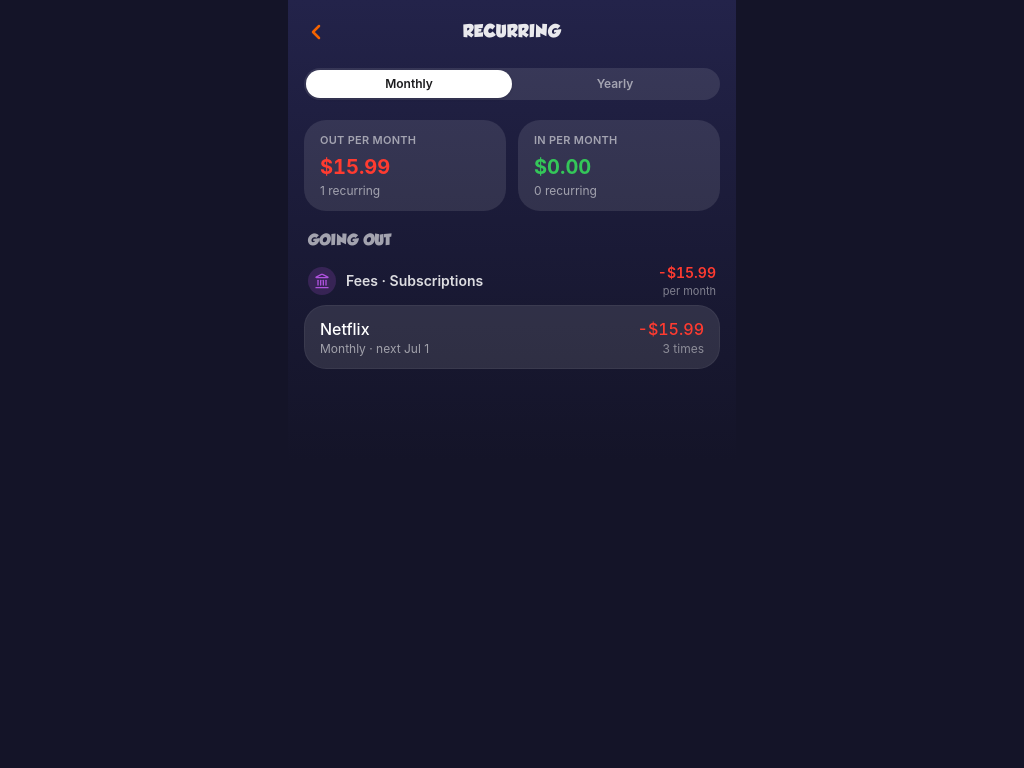
it: Recurring › opens a series to show its occurrences, and closes it again
expect the text "Apr 1" is not shown: met
Step 1. Click the button with aria-label "Netflix, monthly, 3 times" → click(345, 329), box [304, 305, 720, 369]
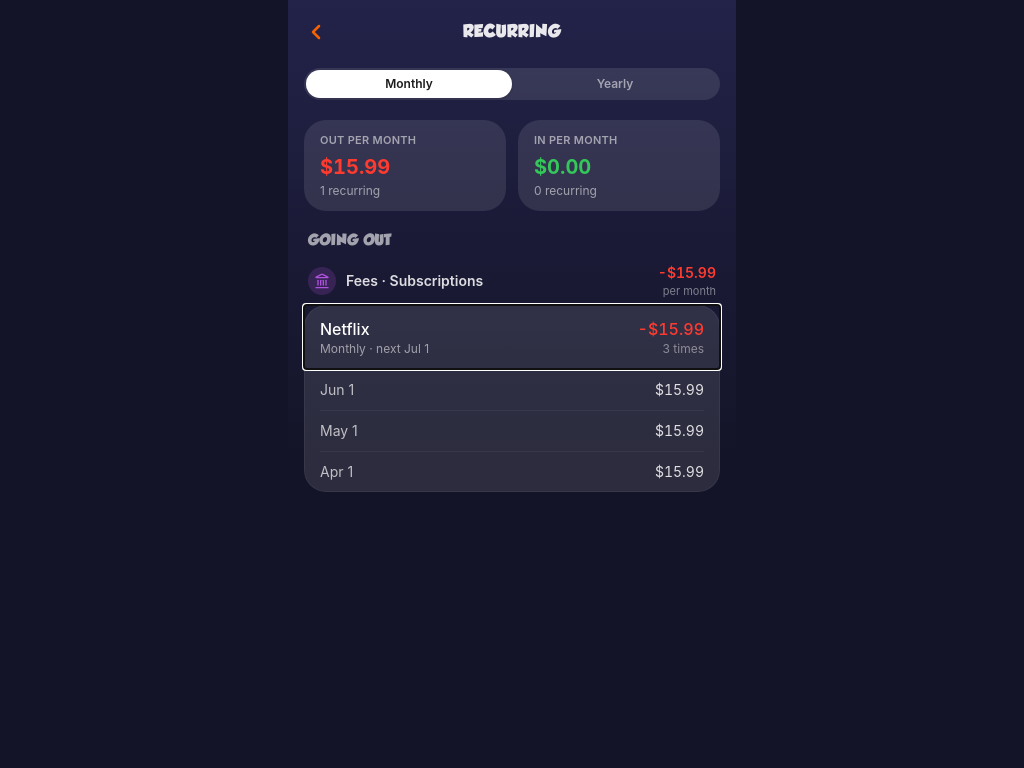
expect the text "Jun 1" is shown: met, box [320, 380, 354, 400]
expect the text "May 1" is shown: met, box [320, 421, 358, 441]
expect the text "Apr 1" is shown: met, box [320, 462, 353, 482]
Step 2. Click the button with aria-label "Netflix, monthly, 3 times" → click(345, 329), box [304, 305, 720, 369]
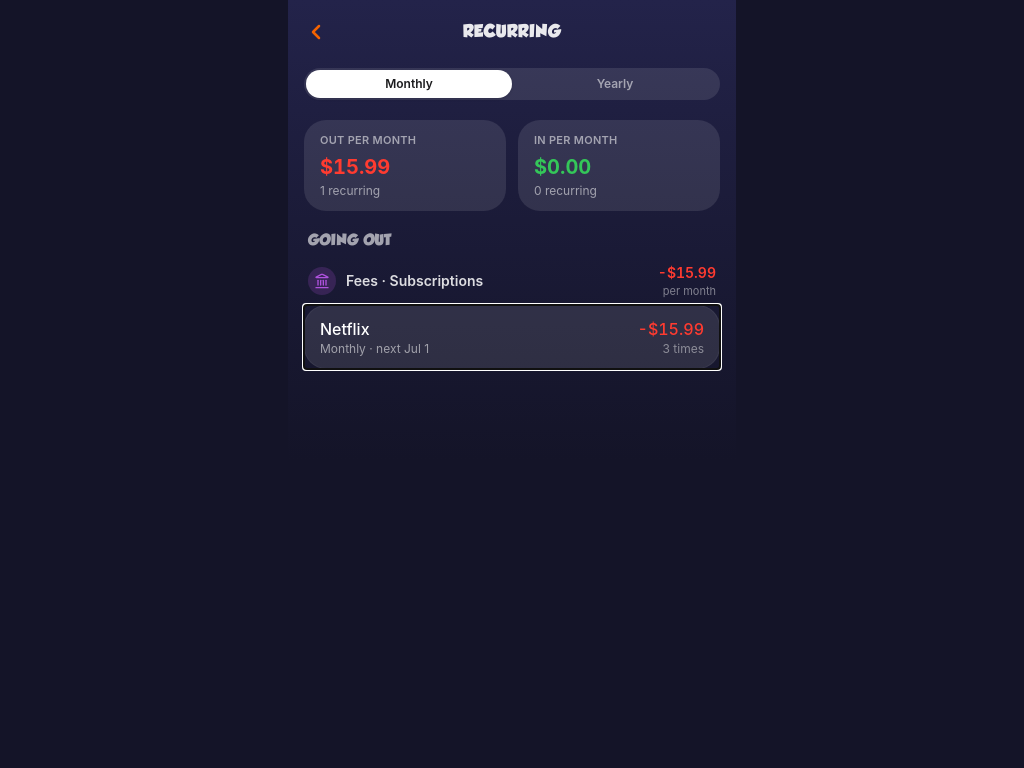
expect the text "Apr 1" is gone: met
